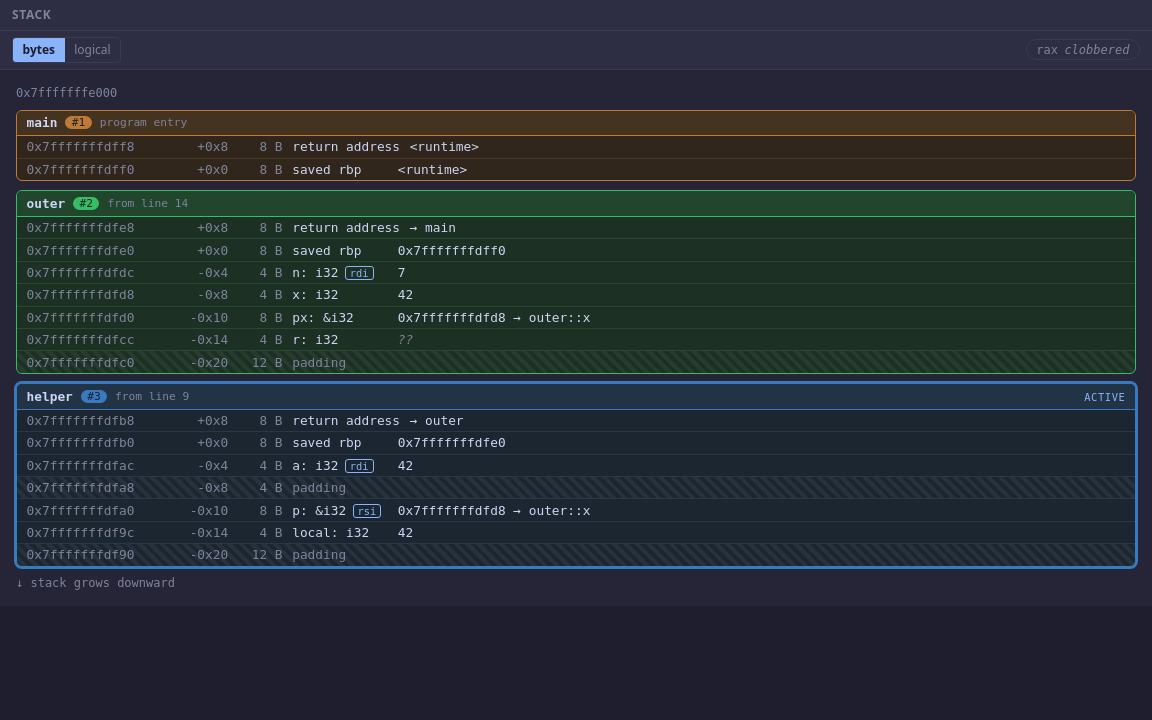
Scenario: StackPane detail toggle › returns to byte-accurate rows when toggled back
Click the button "logical" at (92, 50), box [65,38,120,62]
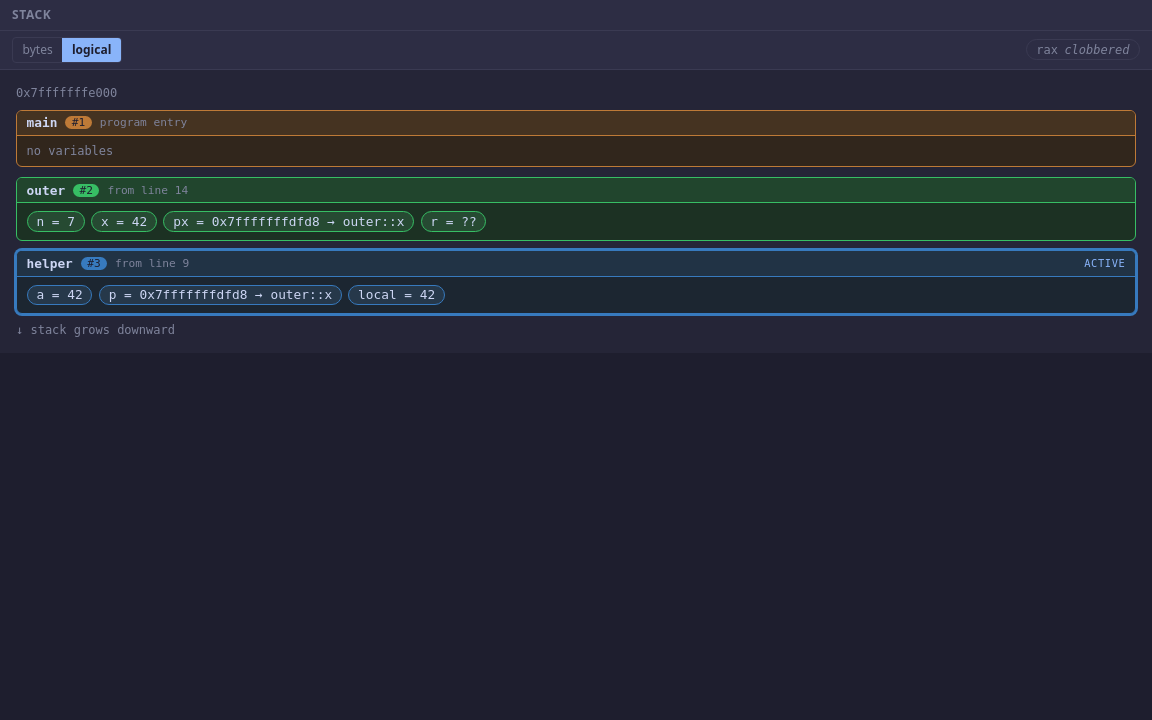
Click the button "bytes" at (38, 50), box [13,38,62,62]
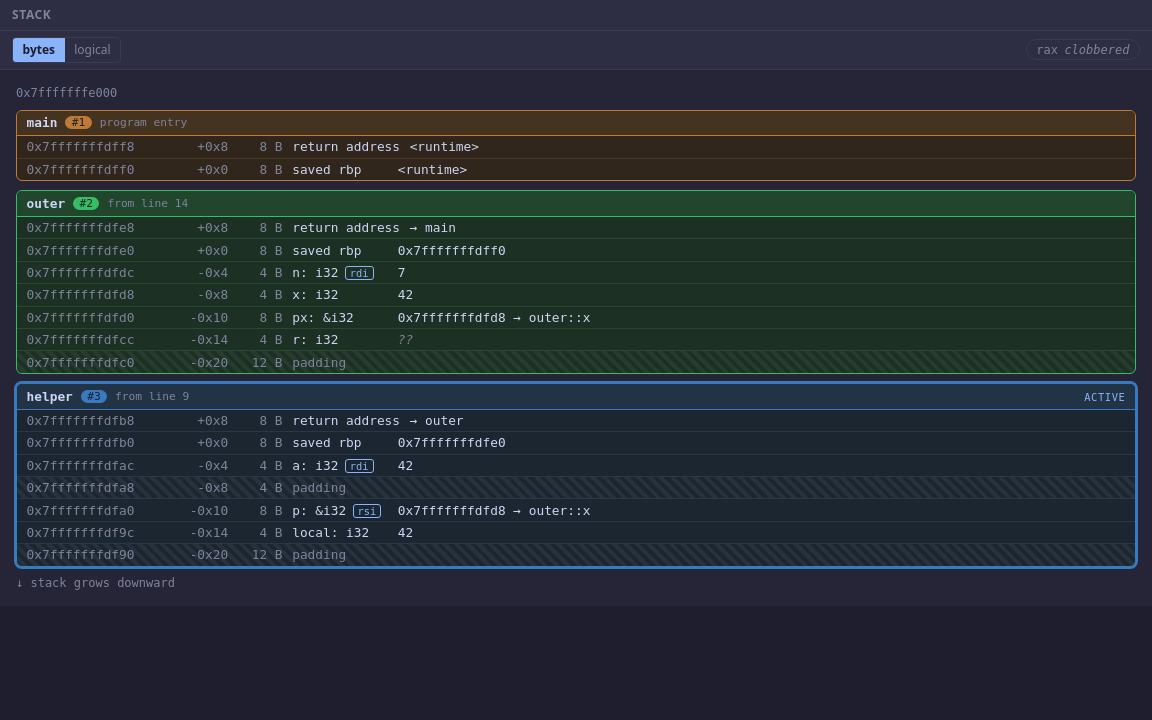
Check: the 2nd text "saved rbp" is shown, box [292,243,362,258]
